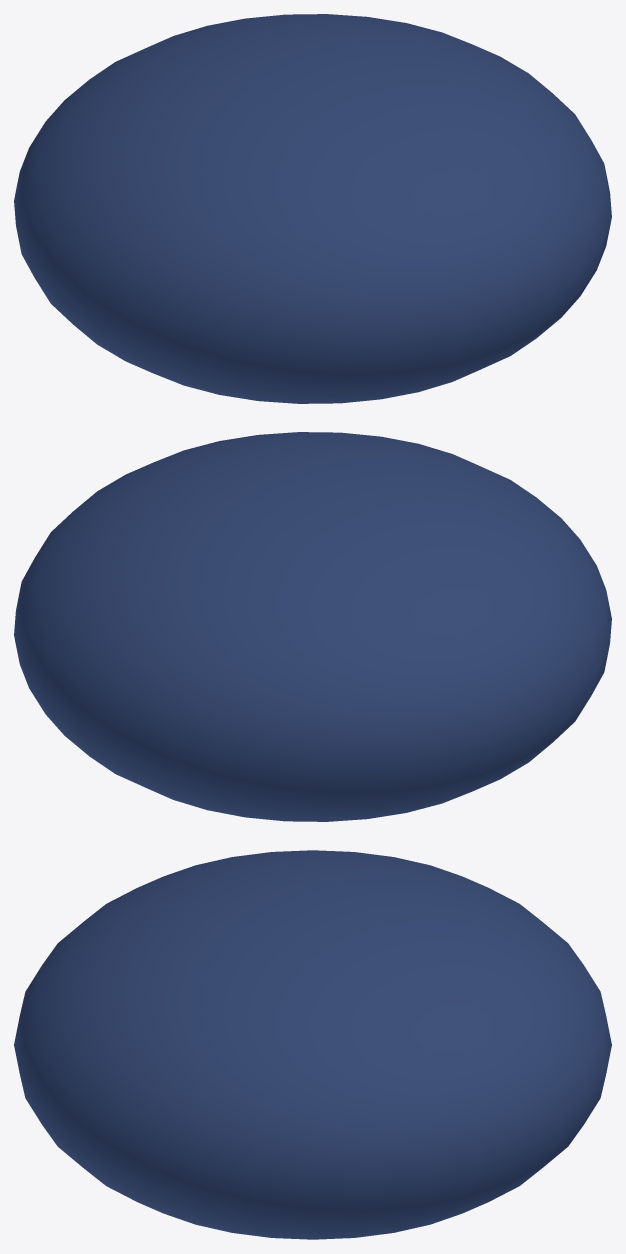
Rendered from immohrtal-pittsburgh-concert.glb.
3 renders of one model, top to bottom at view 1: azimuth 30°, elevation 25°; view 2: azimuth 150°, elevation 25°; view 3: azimuth 270°, elevation 25°, orthographic.
Visible parts, largest first — view 1: SKY_Dome; view 2: SKY_Dome; view 3: SKY_Dome.
Boxes of the visible parts, bbox=[...] form: SKY_Dome: bbox=[14, 14, 611, 403]; SKY_Dome: bbox=[14, 432, 611, 821]; SKY_Dome: bbox=[14, 850, 611, 1239].
Bounding box in the file's own units: 800 × 440 × 800.
